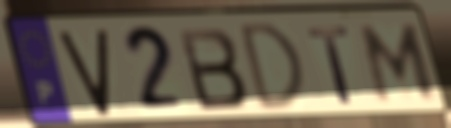2: (121, 23, 196, 119)
B: (175, 25, 250, 113)
D: (237, 20, 310, 115)
M: (358, 22, 439, 106)
T: (303, 23, 358, 106)
V: (55, 26, 113, 120)
